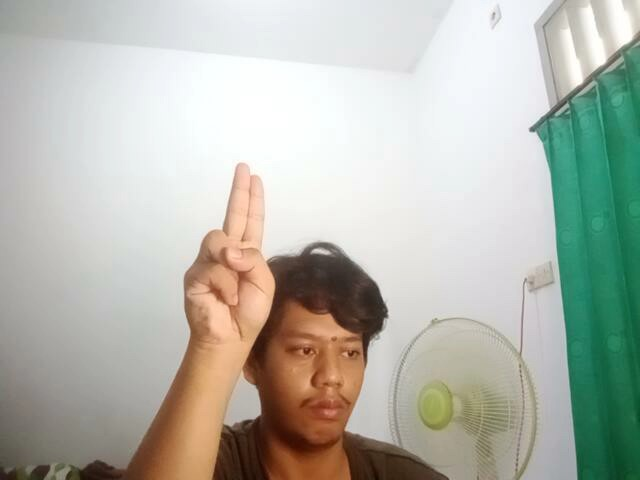U: (179, 154, 274, 352)
